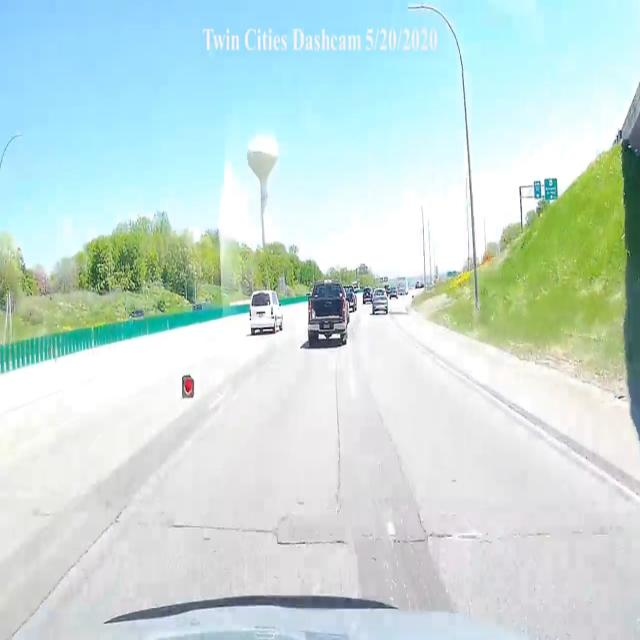cone: (180, 370, 195, 401)
